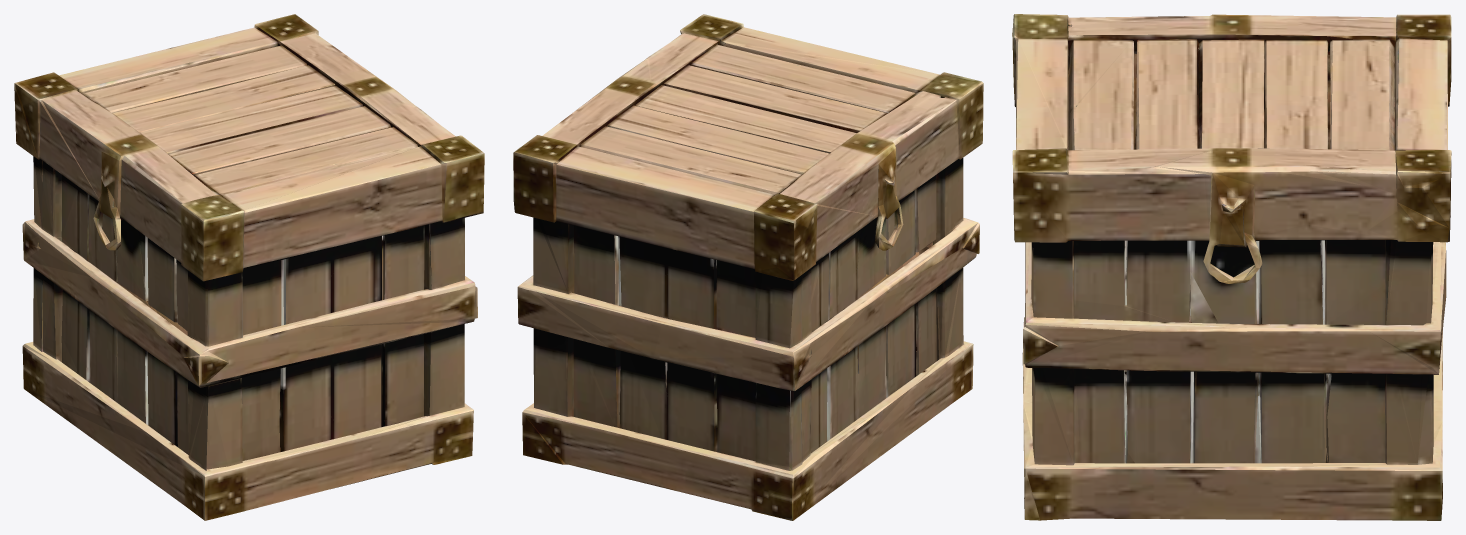
File: prop_wood_crate_small_01.glb
3 renders of one model, left to right at view 1: azimuth 30°, elevation 25°; view 2: azimuth 150°, elevation 25°; view 3: azimuth 270°, elevation 25°, orthographic. The views are drawn at different scales.
Visible parts, largest first — view 1: geometry_0; view 2: geometry_0; view 3: geometry_0.
Part boxes in pixels (bbox=[...]): geometry_0: bbox=[14, 14, 484, 520]; geometry_0: bbox=[513, 14, 983, 520]; geometry_0: bbox=[1012, 14, 1451, 520].
Size of the model in its own units: 0.875 by 0.8807 by 0.9871.
1 material, 1 textured.
